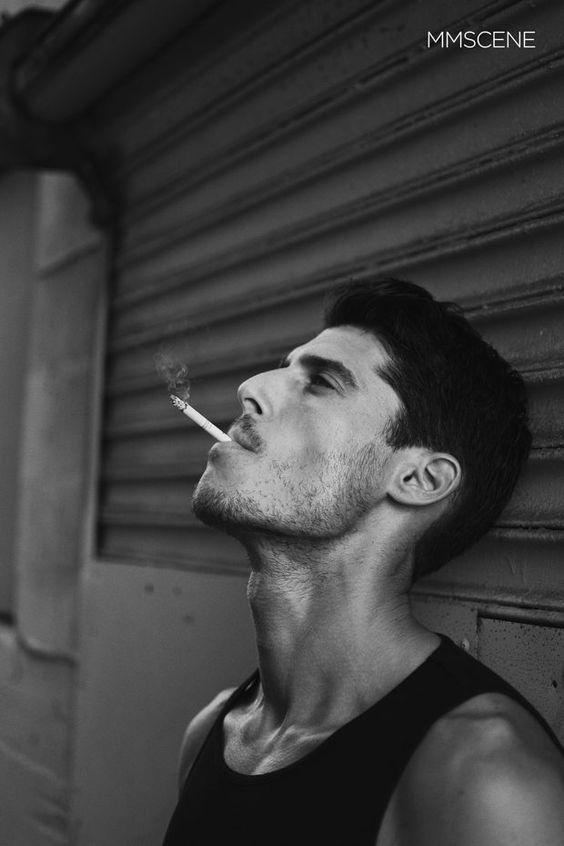cigarette: (168, 392, 233, 441)
